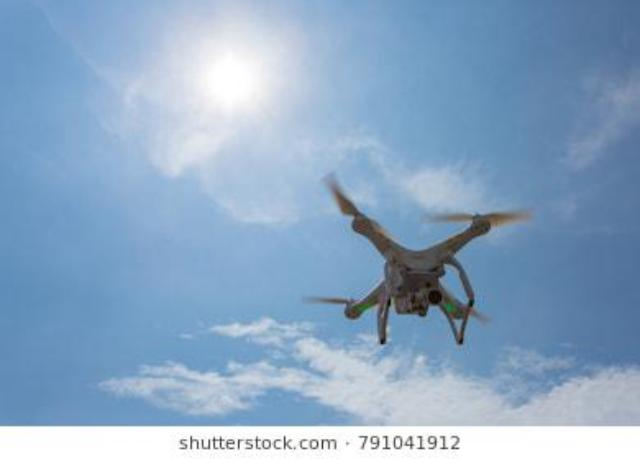drone: (250, 167, 564, 357)
